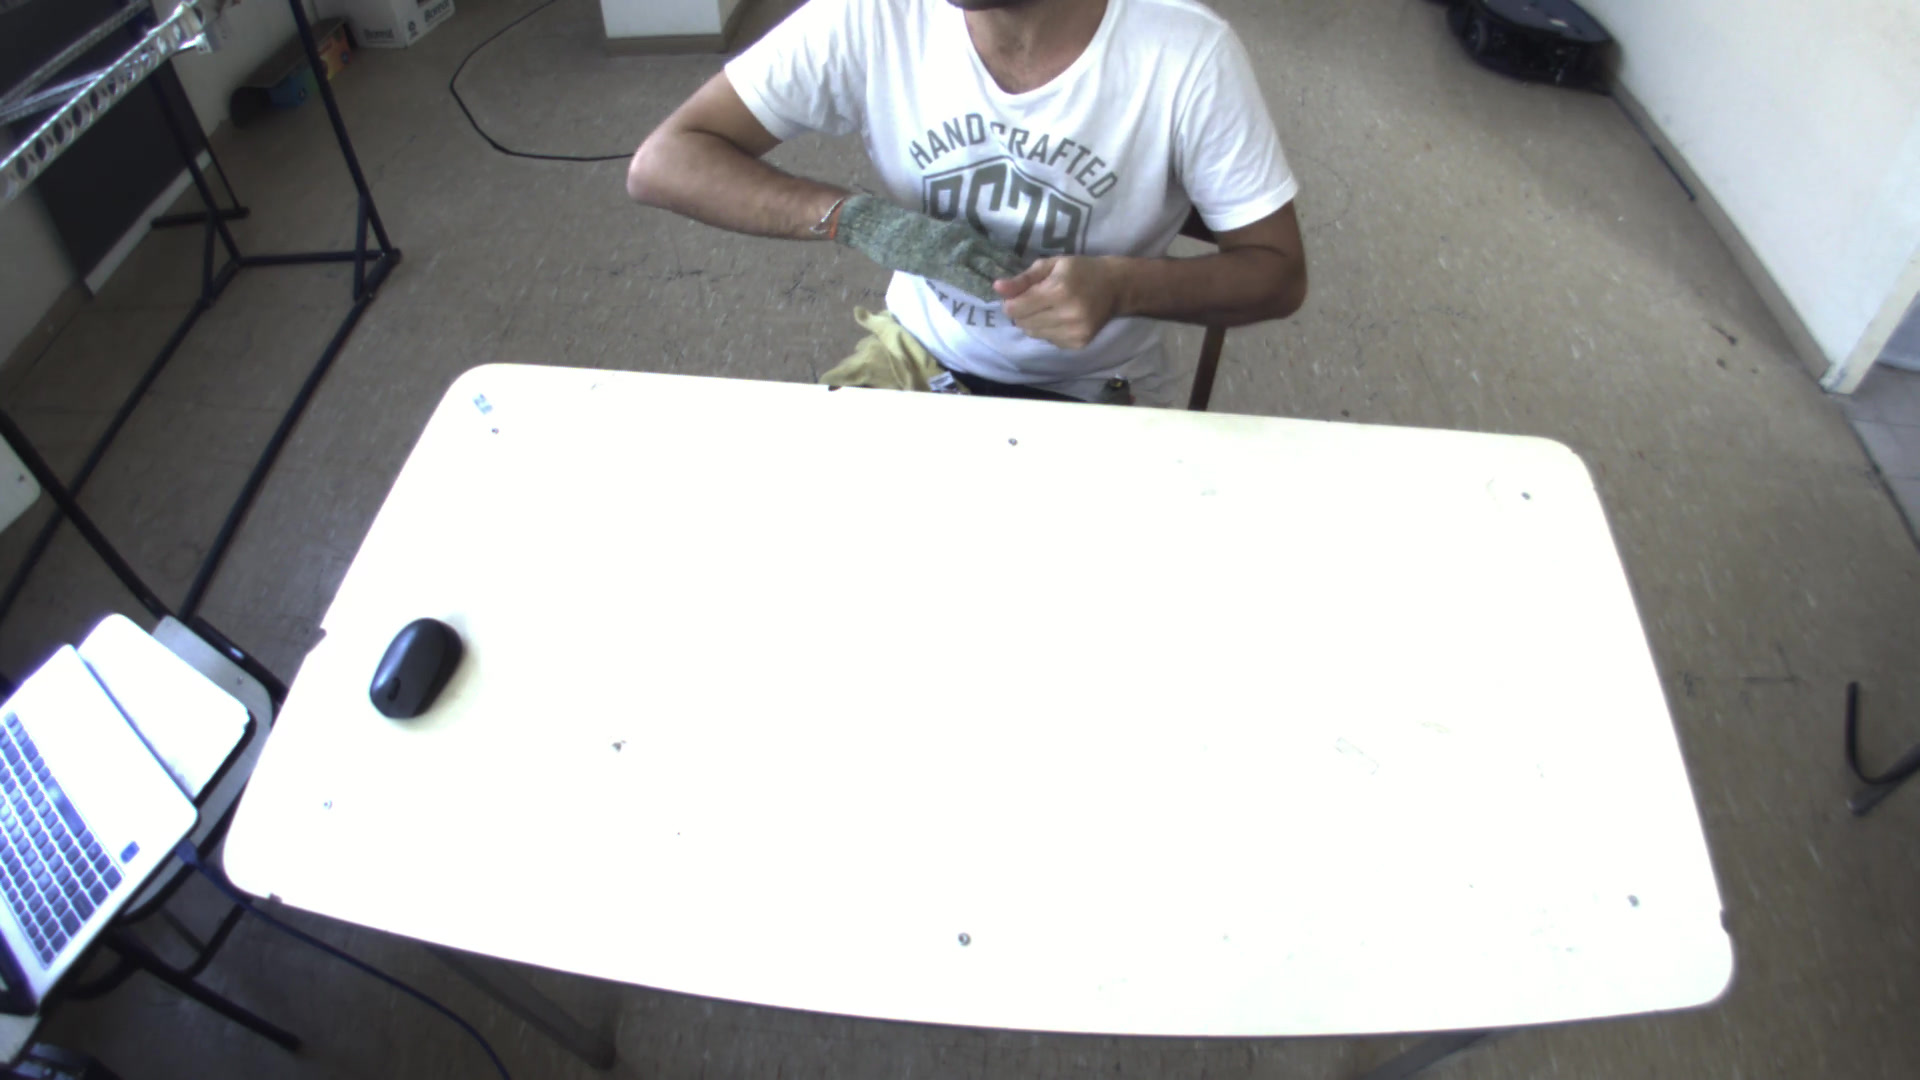hand: (843, 179, 1033, 309), (980, 245, 1122, 345)
